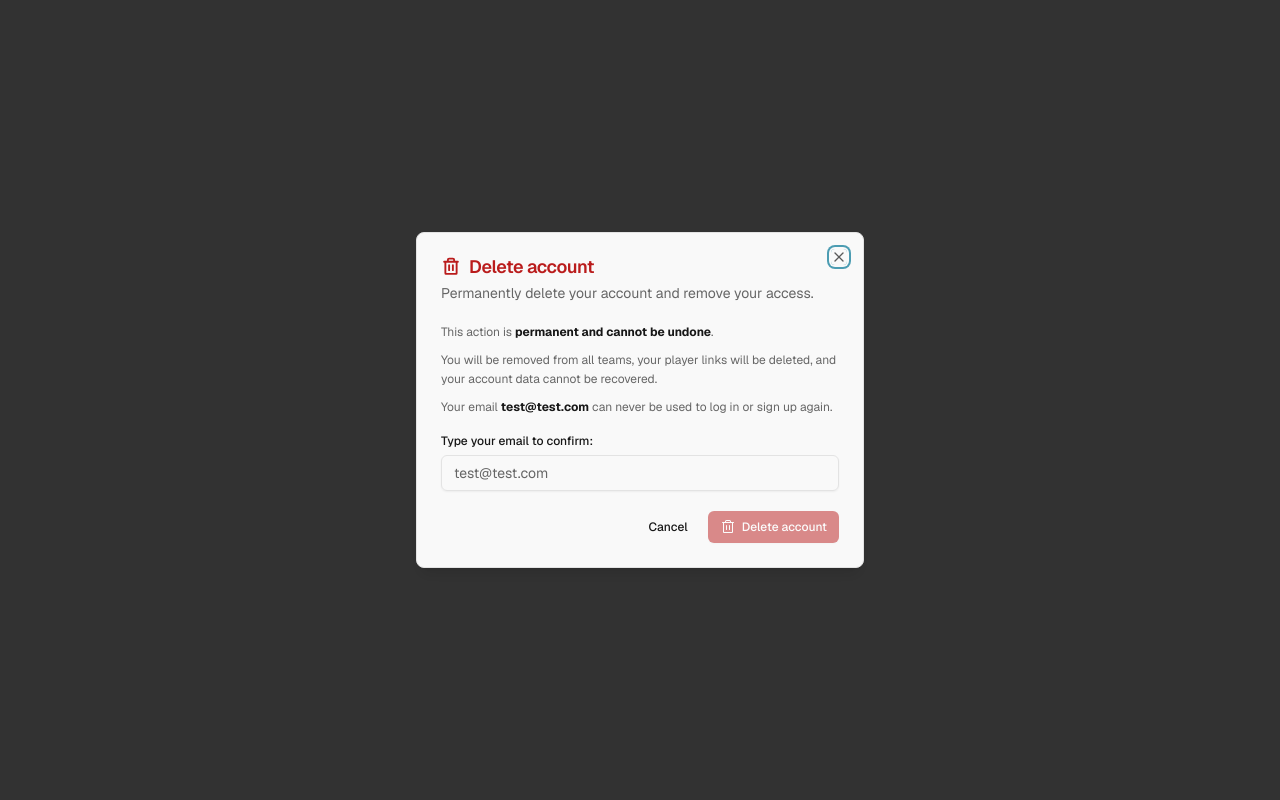
DeleteAccountDialog › enables submit only on exact email match
Expected: the button "Delete account" is disabled, [708,511,839,543]
In the field with placeholder "test@test.com": (640, 473) [441,455,839,491], type "wrong@test.com"
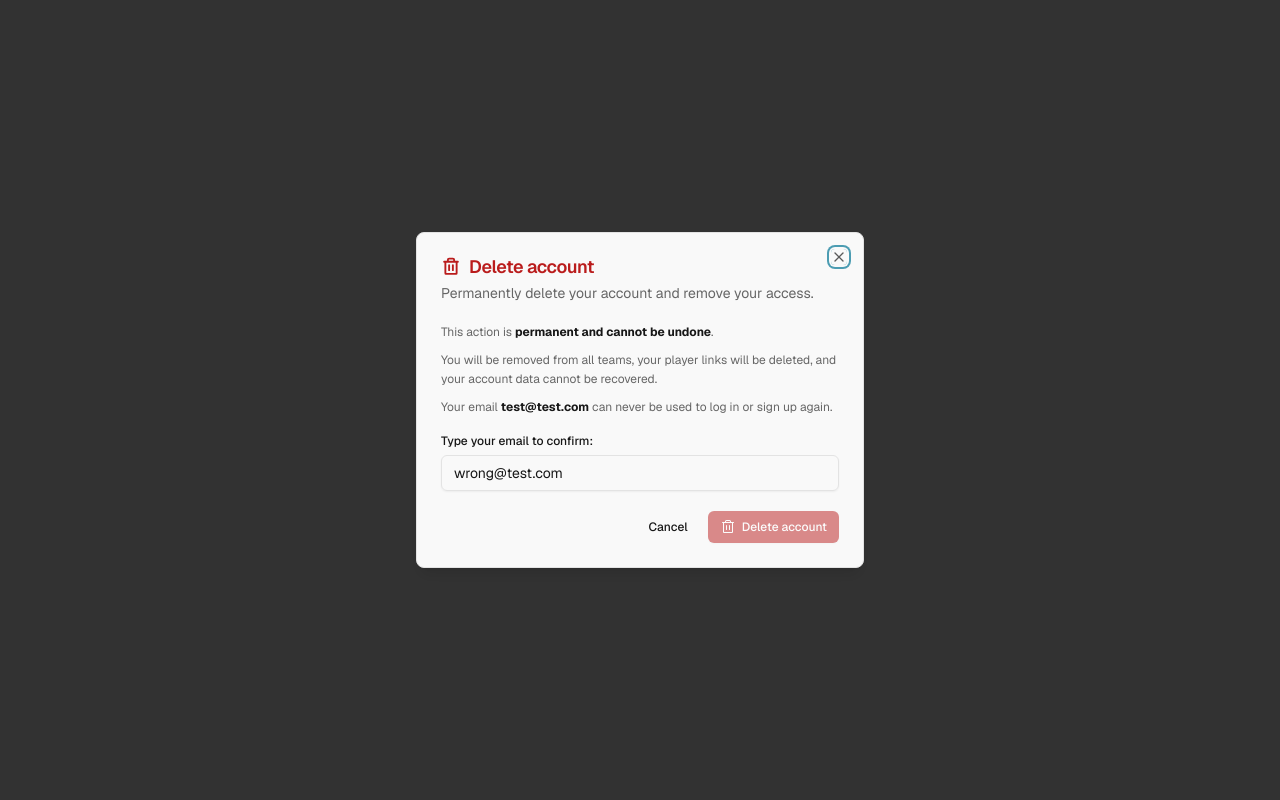
Expected: the button "Delete account" is disabled, [708,511,839,543]
Replace the text in the field with placeholder "test@test.com" with "test@test.com": (640, 473) [441,455,839,491]
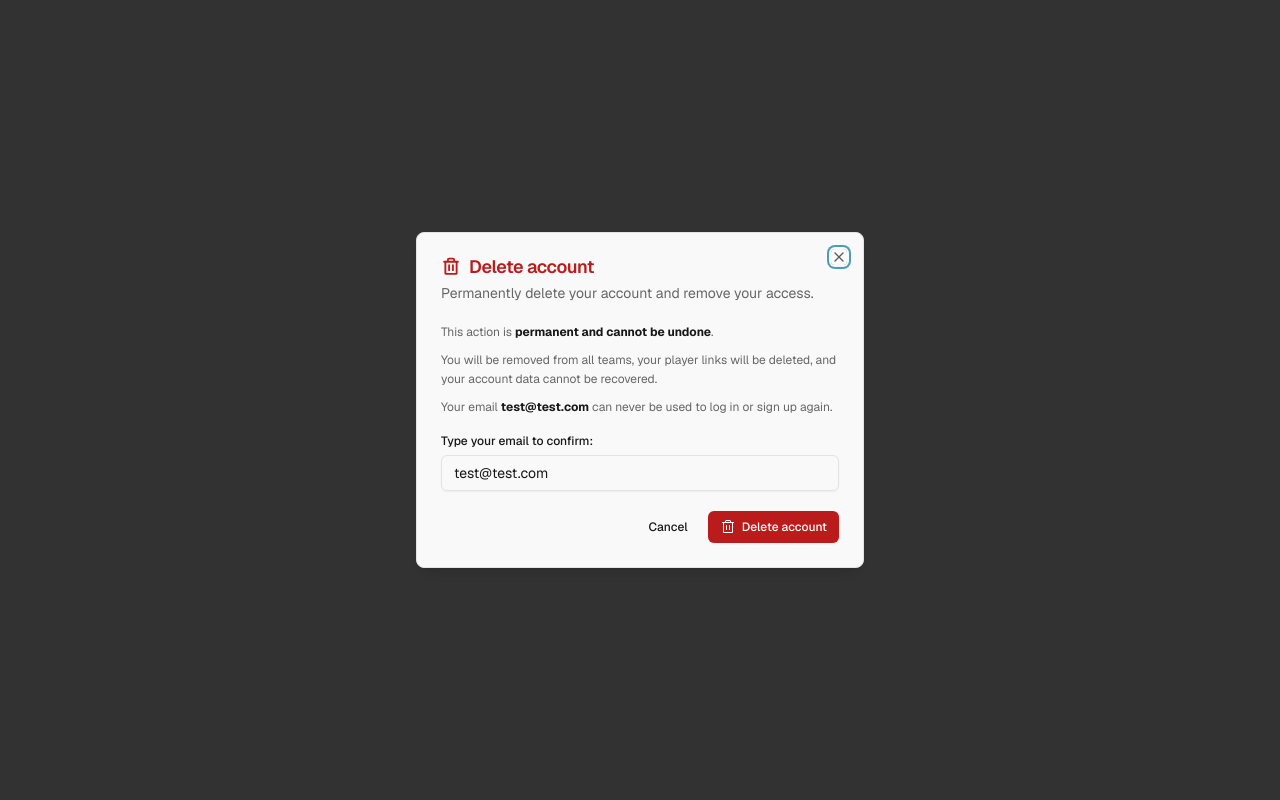
Now the button "Delete account" is enabled, box [708,511,839,543]
